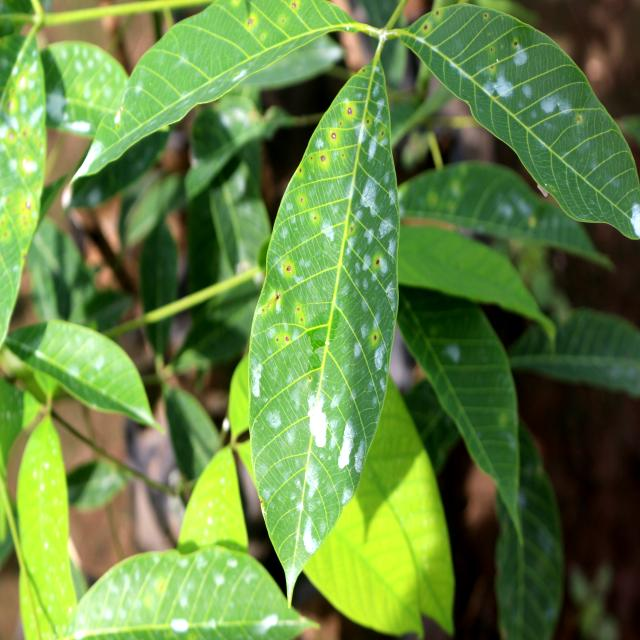Colletotrichum: (348, 107, 352, 115), (332, 133, 336, 139), (321, 156, 325, 161)
